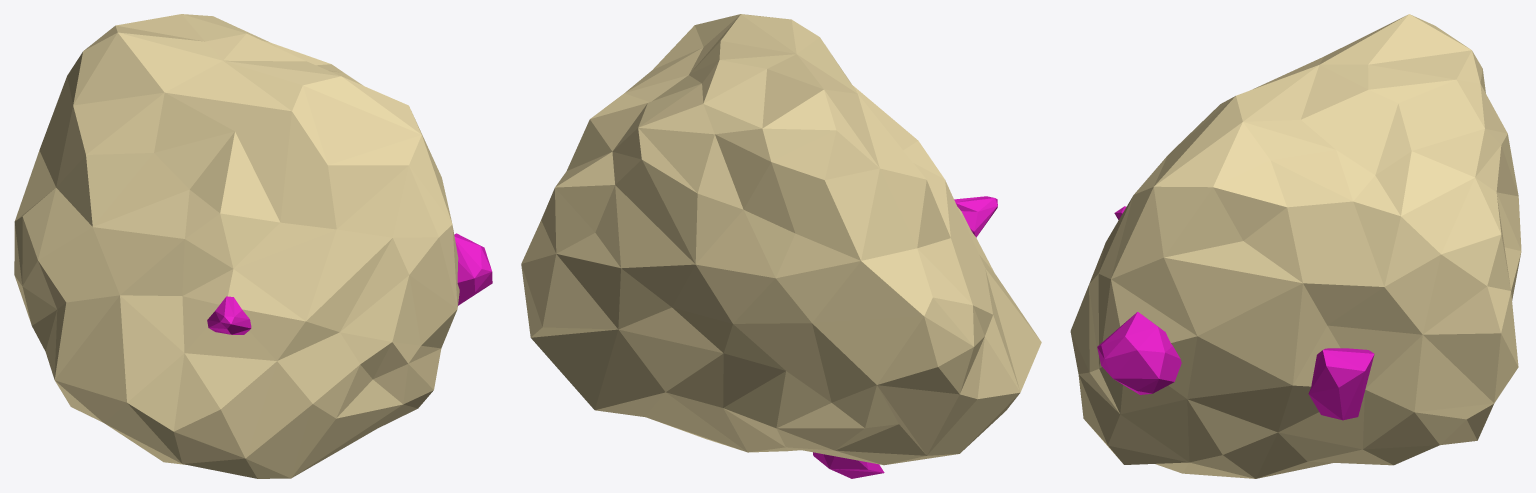
File: CrystalOre (14).fbx
The picture shows the model from 3 angles, left to right: view 1: azimuth 30°, elevation 25°; view 2: azimuth 150°, elevation 25°; view 3: azimuth 270°, elevation 25°; orthographic projection. The views are drawn at different scales.
Visible parts, largest first — view 1: Asteroid234; view 2: Asteroid234; view 3: Asteroid234.
Part boxes in pixels (bbox=[...]): Asteroid234: bbox=[14, 14, 492, 478]; Asteroid234: bbox=[521, 14, 1041, 478]; Asteroid234: bbox=[1070, 14, 1521, 478].
Size of the model in its own units: 476 by 467 by 447.
